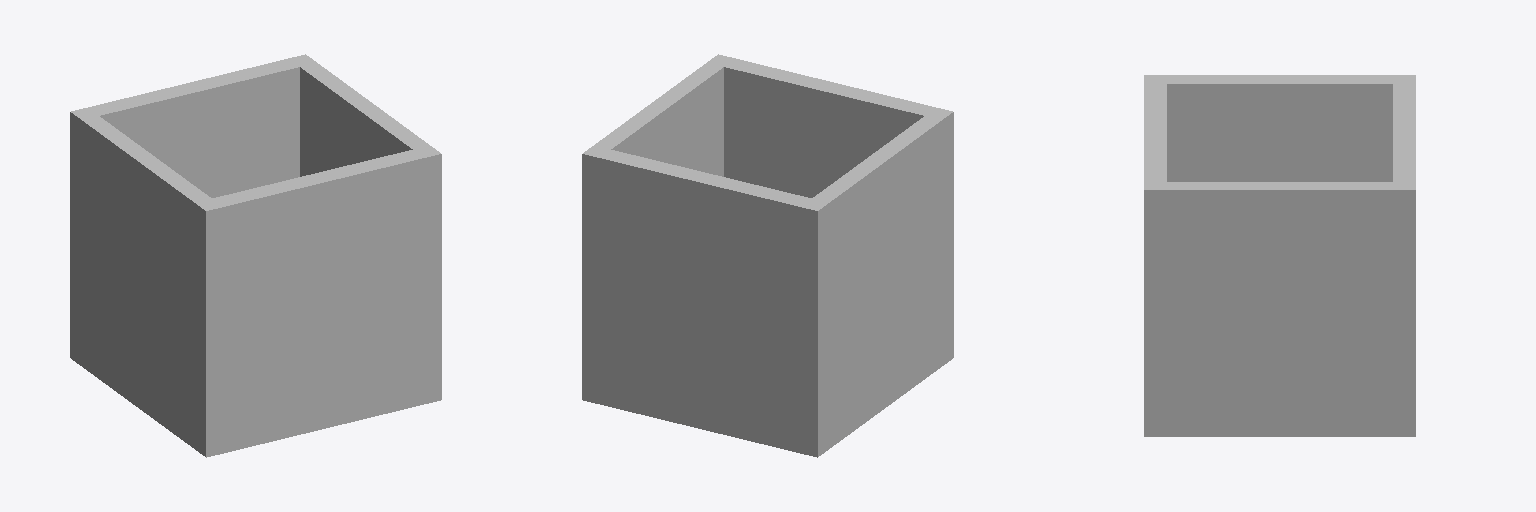
Rendered from Papelera.obj.
3 views of the same model, side by side, from view 1: azimuth 30°, elevation 25°; view 2: azimuth 150°, elevation 25°; view 3: azimuth 270°, elevation 25° (orthographic).
Parts seen in each view (by area): view 1: object 1; view 2: object 1; view 3: object 1.
Boxes of the visible parts, x1=… form: object 1: x1=70, y1=54, x2=441, y2=457; object 1: x1=582, y1=54, x2=953, y2=457; object 1: x1=1144, y1=75, x2=1415, y2=436.
Size of the model in its own units: 17.6 by 17.6 by 17.6.